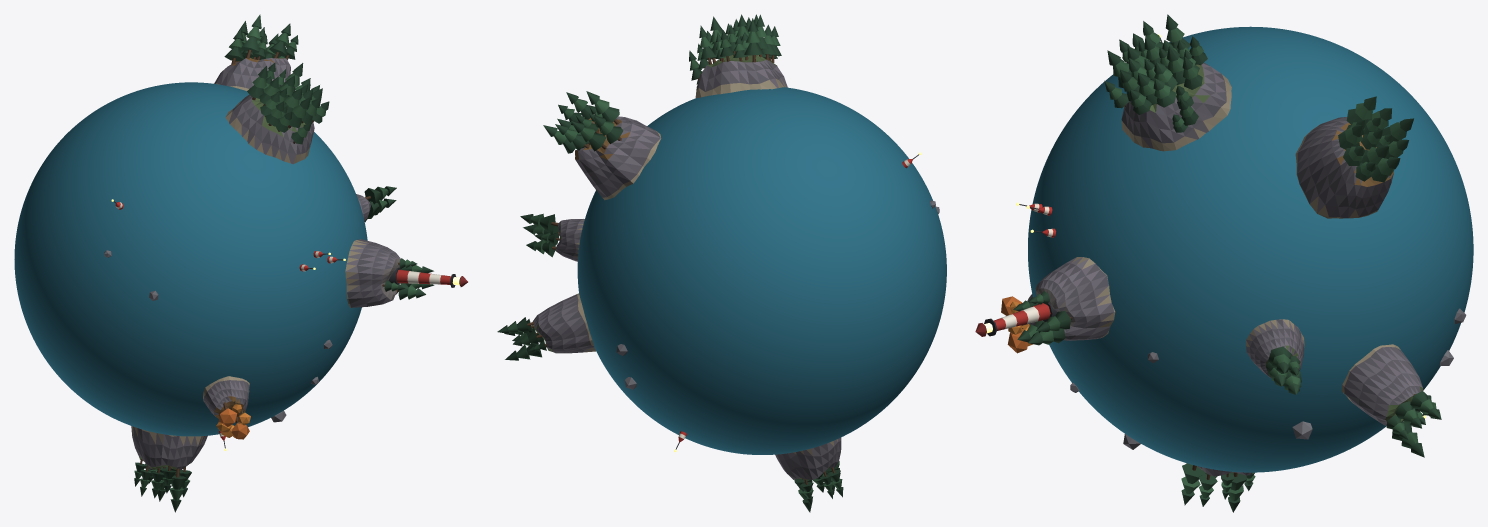
File: wake-world.glb
The picture shows the model from 3 angles, left to right: view 1: azimuth 30°, elevation 25°; view 2: azimuth 150°, elevation 25°; view 3: azimuth 270°, elevation 25°; orthographic projection. The views are drawn at different scales.
Parts seen in each view (by area): view 1: Water, Island_lighthouse, Island_pines, Island_island-9, Island_island-6, Island_autumn, Lighthouse; view 2: Water, Island_island-6, Island_pines, Island_island-3, Island_island-9, Island_island-8; view 3: Water, Island_island-6, Island_pines, Island_lighthouse, Island_island-3, Island_island-8, Lighthouse, Pine_067.
Part boxes in pixels (x1=…): Water: x1=14, y1=82, x2=367, y2=436; Island_lighthouse: x1=345, y1=239, x2=400, y2=307; Island_pines: x1=225, y1=94, x2=314, y2=164; Island_island-9: x1=131, y1=426, x2=207, y2=470; Island_island-6: x1=214, y1=58, x2=290, y2=90; Island_autumn: x1=203, y1=376, x2=249, y2=418; Lighthouse: x1=388, y1=267, x2=467, y2=287; Water: x1=577, y1=87, x2=946, y2=454; Island_island-6: x1=575, y1=116, x2=661, y2=200; Island_pines: x1=695, y1=55, x2=787, y2=97; Island_island-3: x1=532, y1=293, x2=595, y2=353; Island_island-9: x1=775, y1=437, x2=841, y2=479; Island_island-8: x1=555, y1=219, x2=584, y2=261; Water: x1=1028, y1=26, x2=1473, y2=472; Island_island-6: x1=1295, y1=117, x2=1393, y2=218; Island_pines: x1=1121, y1=62, x2=1231, y2=151; Island_lighthouse: x1=1034, y1=257, x2=1115, y2=340; Island_island-3: x1=1341, y1=344, x2=1423, y2=425; Island_island-8: x1=1246, y1=319, x2=1304, y2=377; Lighthouse: x1=975, y1=303, x2=1057, y2=336; Pine_067: x1=1181, y1=463, x2=1205, y2=505.
Size of the model in its own units: 12.14 by 13.58 by 11.17.
